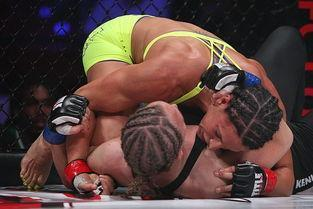Fall-Detected: (12, 8, 301, 195)
